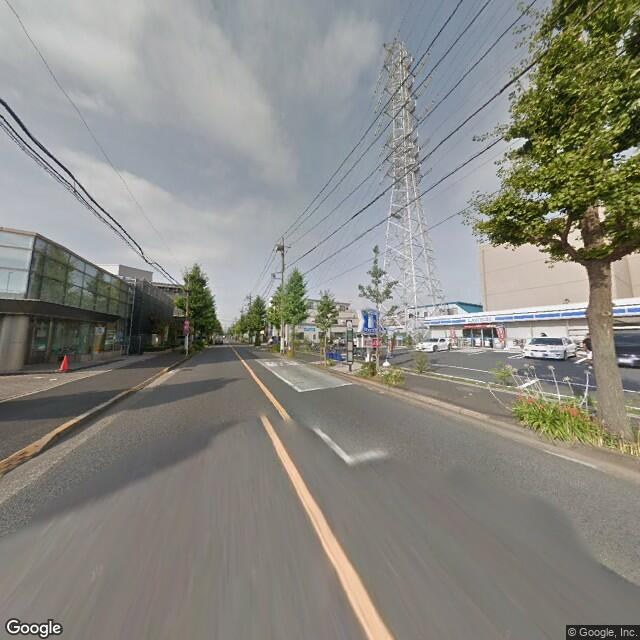lawson: (423, 303, 594, 329), (358, 304, 379, 336)
